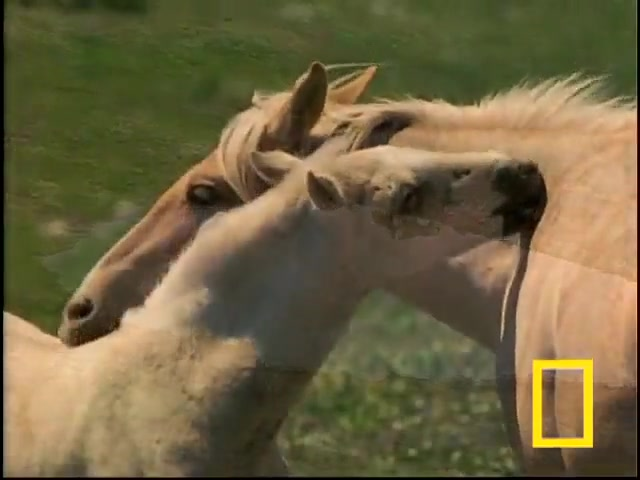horse: (56, 71, 640, 479)
